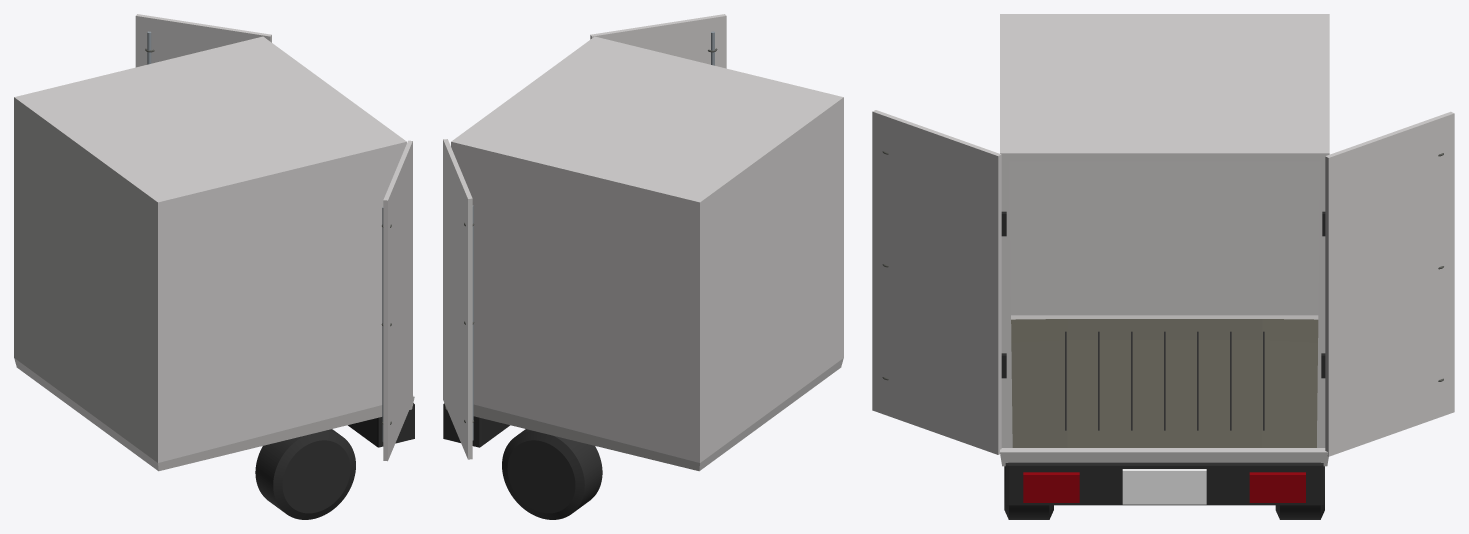
The model's file is truckRyulMade18.fbx.
3 renders of one model, left to right at view 1: azimuth 30°, elevation 25°; view 2: azimuth 150°, elevation 25°; view 3: azimuth 270°, elevation 25°, orthographic. The views are drawn at different scales.
Visible parts, largest first — view 1: TruckStorage, LeftDoor, wheel, RightDoor, Lamphead; view 2: TruckStorage, RightDoor, wheel.001, LeftDoor, Lamphead, doorHand.002; view 3: TruckStorage, LeftDoor, RightDoor, Lamphead, numberZone, BackHeadLight, BackHeadLight.001, wheel.001, wheel.
Part boxes in pixels (x1,y1,x2,y2): TruckStorage: (14,36,414,471); LeftDoor: (383,140,412,461); wheel: (255,429,355,519); RightDoor: (135,14,271,67); Lamphead: (348,403,414,447); TruckStorage: (445,36,843,471); RightDoor: (443,139,472,459); wheel.001: (502,429,602,519); LeftDoor: (590,14,726,68); Lamphead: (443,403,509,447); doorHand.002: (472,205,473,440); TruckStorage: (1000,14,1329,466); LeftDoor: (872,110,1001,454); RightDoor: (1325,111,1454,456); Lamphead: (1005,462,1323,505); numberZone: (1122,469,1206,504); BackHeadLight: (1023,472,1079,502); BackHeadLight.001: (1249,472,1305,502); wheel.001: (1275,466,1324,519); wheel: (1004,466,1053,519).
Bounding box in the file's own units: 213 × 275 × 353.
